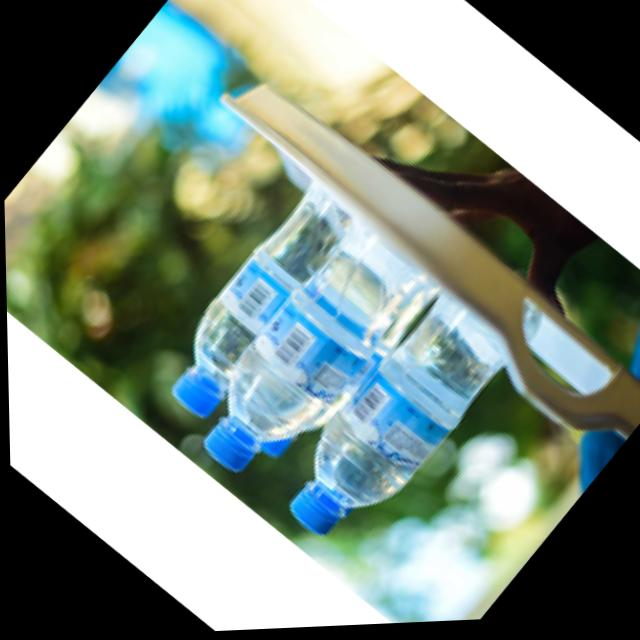plastic_water_bottles: (260, 292, 520, 573), (175, 225, 432, 503), (135, 179, 363, 428)
